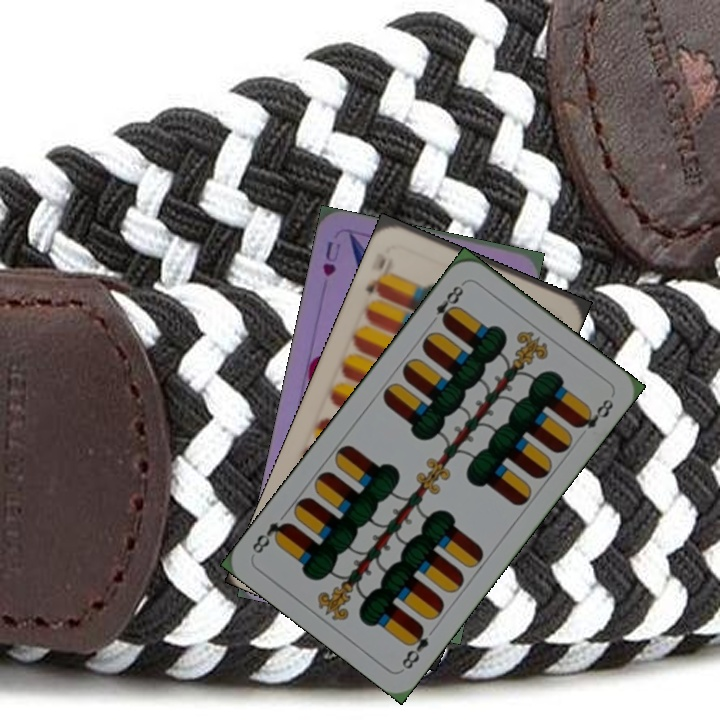E10: (361, 254, 396, 299)
E8: (425, 278, 468, 328), (397, 621, 432, 672)
HU: (318, 237, 343, 279)
